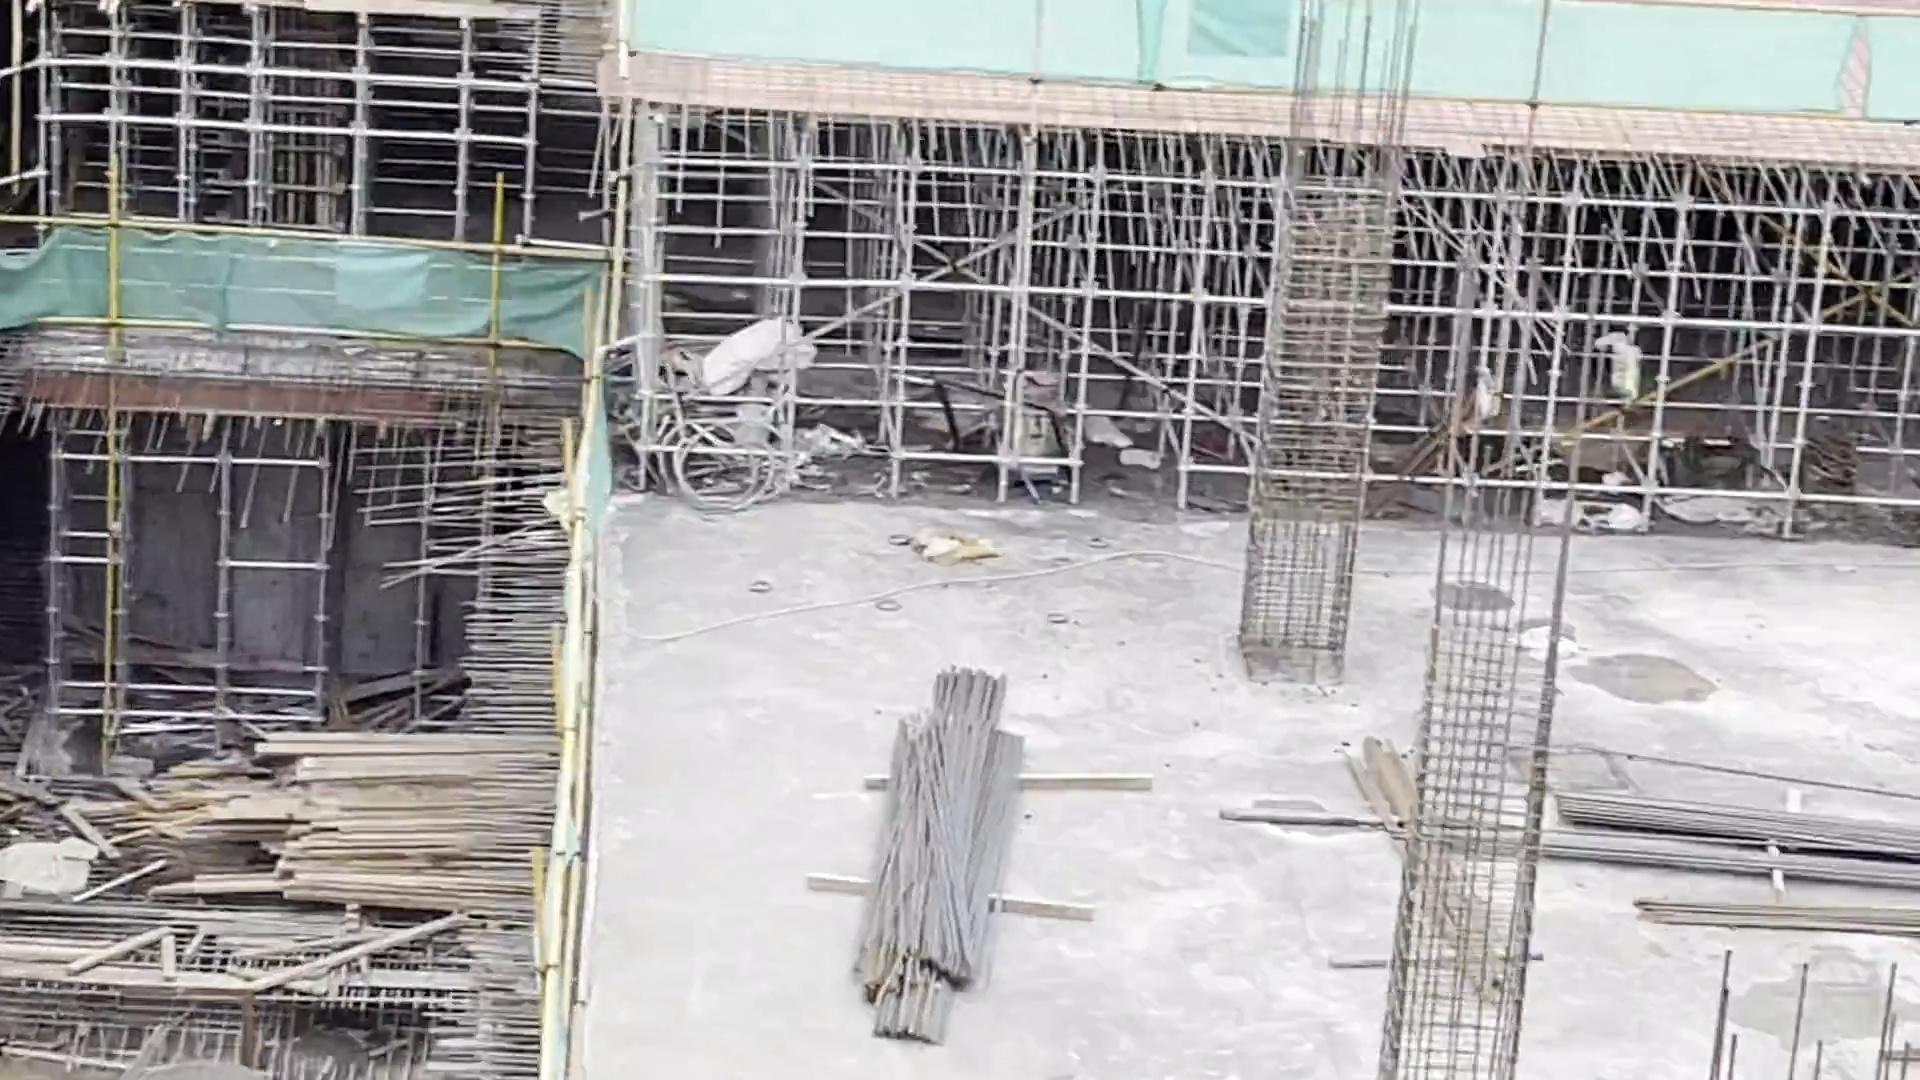rebar: (848, 647, 1022, 1080), (1547, 753, 1920, 847), (1513, 812, 1920, 885), (1615, 886, 1920, 944)
